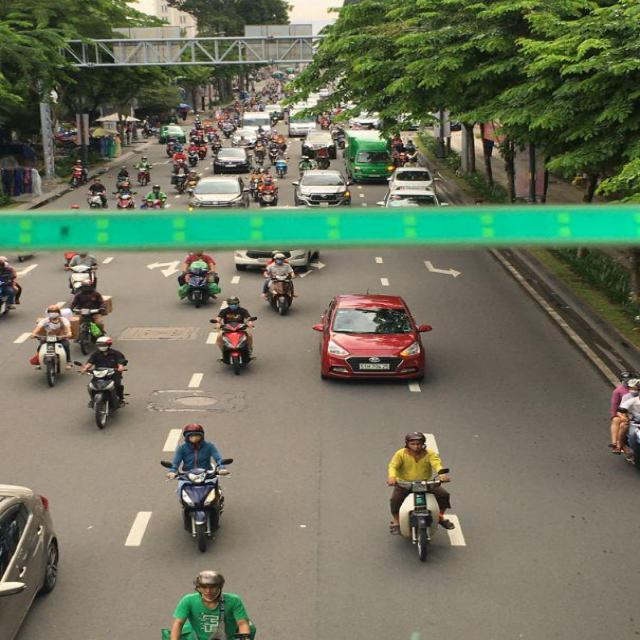car: (316, 292, 431, 385), (384, 168, 438, 208), (294, 171, 349, 209), (189, 176, 250, 208), (300, 129, 336, 161), (212, 148, 250, 174)
motorcycle: (172, 468, 230, 552), (401, 482, 438, 560), (84, 366, 124, 428), (30, 332, 70, 391), (72, 298, 108, 356), (176, 273, 221, 307), (217, 328, 254, 368), (263, 273, 298, 315), (0, 269, 22, 317)
truck: (347, 131, 395, 183)
